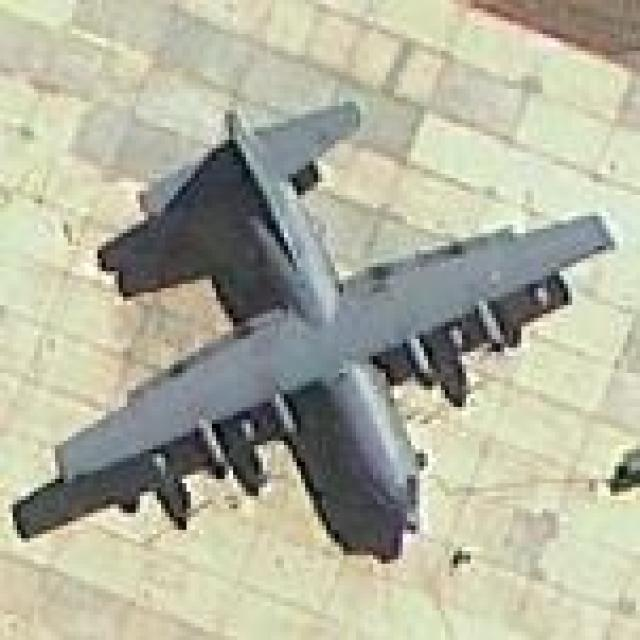C-130_TopDown: (13, 95, 617, 560)
